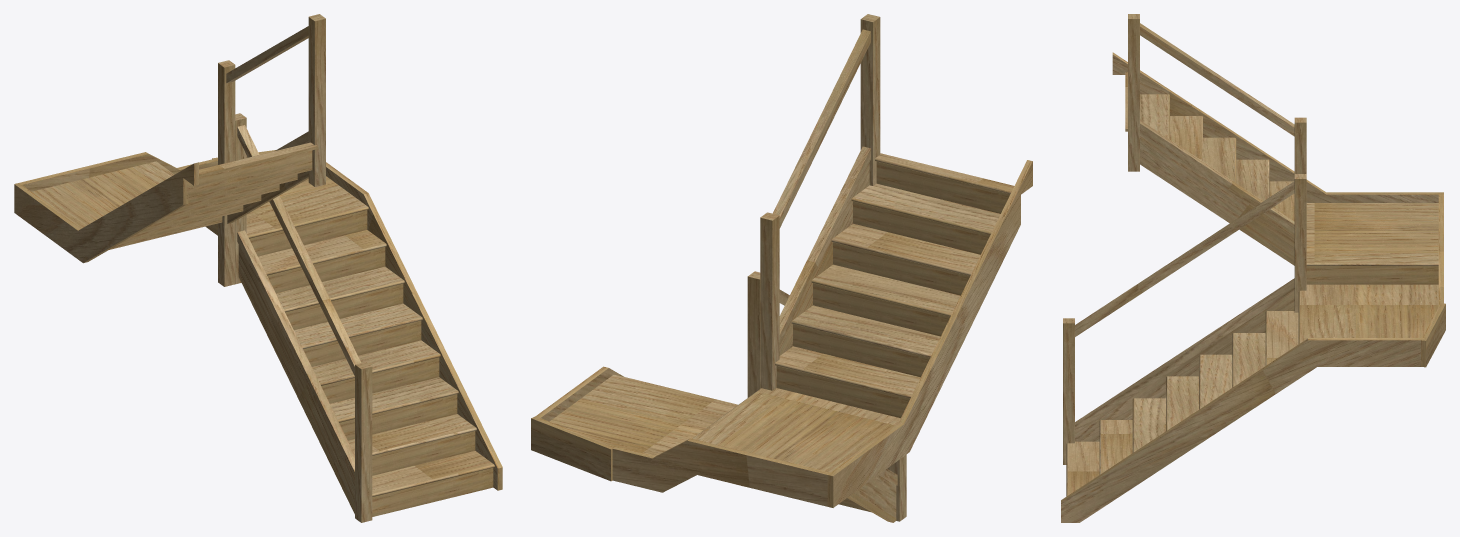
The model's file is Service stairs.fbx.
3 views of the same model, side by side, from view 1: azimuth 30°, elevation 25°; view 2: azimuth 150°, elevation 25°; view 3: azimuth 270°, elevation 25° (orthographic). The views are drawn at different scales.
Visible parts, largest first — view 1: _x0023_TREADbig-oaktex.jpg1111, _x0023_RISERbig-oaktex.jpg1111, _x0023_STRINGbig-oaktex.jpg1111.001, _x0023_POSTbig-oaktex.jpg1111, _x0023_STRINGbig-oaktex.jpg1111, _x0023_HANDRAILbig-oaktex.jpg1111, _x0023_BOTTOMRAILbig-oaktex.jpg1111; view 2: _x0023_TREADbig-oaktex.jpg1111, _x0023_STRINGbig-oaktex.jpg1111.001, _x0023_RISERbig-oaktex.jpg1111, _x0023_POSTbig-oaktex.jpg1111, _x0023_BOTTOMRAILbig-oaktex.jpg1111, _x0023_HANDRAILbig-oaktex.jpg1111, _x0023_STRINGbig-oaktex.jpg1111; view 3: _x0023_TREADbig-oaktex.jpg1111, _x0023_STRINGbig-oaktex.jpg1111.001, _x0023_STRINGbig-oaktex.jpg1111, _x0023_POSTbig-oaktex.jpg1111, _x0023_HANDRAILbig-oaktex.jpg1111, _x0023_BOTTOMRAILbig-oaktex.jpg1111, _x0023_RISERbig-oaktex.jpg1111.
Boxes of the visible parts, bbox=[...] form: _x0023_TREADbig-oaktex.jpg1111: bbox=[31, 142, 494, 496]; _x0023_RISERbig-oaktex.jpg1111: bbox=[109, 150, 493, 516]; _x0023_STRINGbig-oaktex.jpg1111.001: bbox=[14, 150, 502, 490]; _x0023_POSTbig-oaktex.jpg1111: bbox=[218, 14, 372, 522]; _x0023_STRINGbig-oaktex.jpg1111: bbox=[227, 141, 354, 513]; _x0023_HANDRAILbig-oaktex.jpg1111: bbox=[226, 26, 360, 375]; _x0023_BOTTOMRAILbig-oaktex.jpg1111: bbox=[237, 131, 354, 481]; _x0023_TREADbig-oaktex.jpg1111: bbox=[549, 153, 1014, 472]; _x0023_STRINGbig-oaktex.jpg1111.001: bbox=[531, 160, 1032, 507]; _x0023_RISERbig-oaktex.jpg1111: bbox=[776, 161, 1010, 512]; _x0023_POSTbig-oaktex.jpg1111: bbox=[747, 14, 906, 521]; _x0023_BOTTOMRAILbig-oaktex.jpg1111: bbox=[779, 146, 897, 485]; _x0023_HANDRAILbig-oaktex.jpg1111: bbox=[772, 29, 870, 305]; _x0023_STRINGbig-oaktex.jpg1111: bbox=[779, 162, 896, 522]; _x0023_TREADbig-oaktex.jpg1111: bbox=[1066, 72, 1438, 496]; _x0023_STRINGbig-oaktex.jpg1111.001: bbox=[1061, 52, 1445, 522]; _x0023_STRINGbig-oaktex.jpg1111: bbox=[1075, 132, 1294, 441]; _x0023_POSTbig-oaktex.jpg1111: bbox=[1063, 14, 1306, 464]; _x0023_HANDRAILbig-oaktex.jpg1111: bbox=[1075, 23, 1294, 336]; _x0023_BOTTOMRAILbig-oaktex.jpg1111: bbox=[1075, 120, 1294, 433]; _x0023_RISERbig-oaktex.jpg1111: bbox=[1306, 266, 1438, 284].
Size of the model in its own units: 226 by 367 by 290.
Materials: 6 (6 with a texture image).
